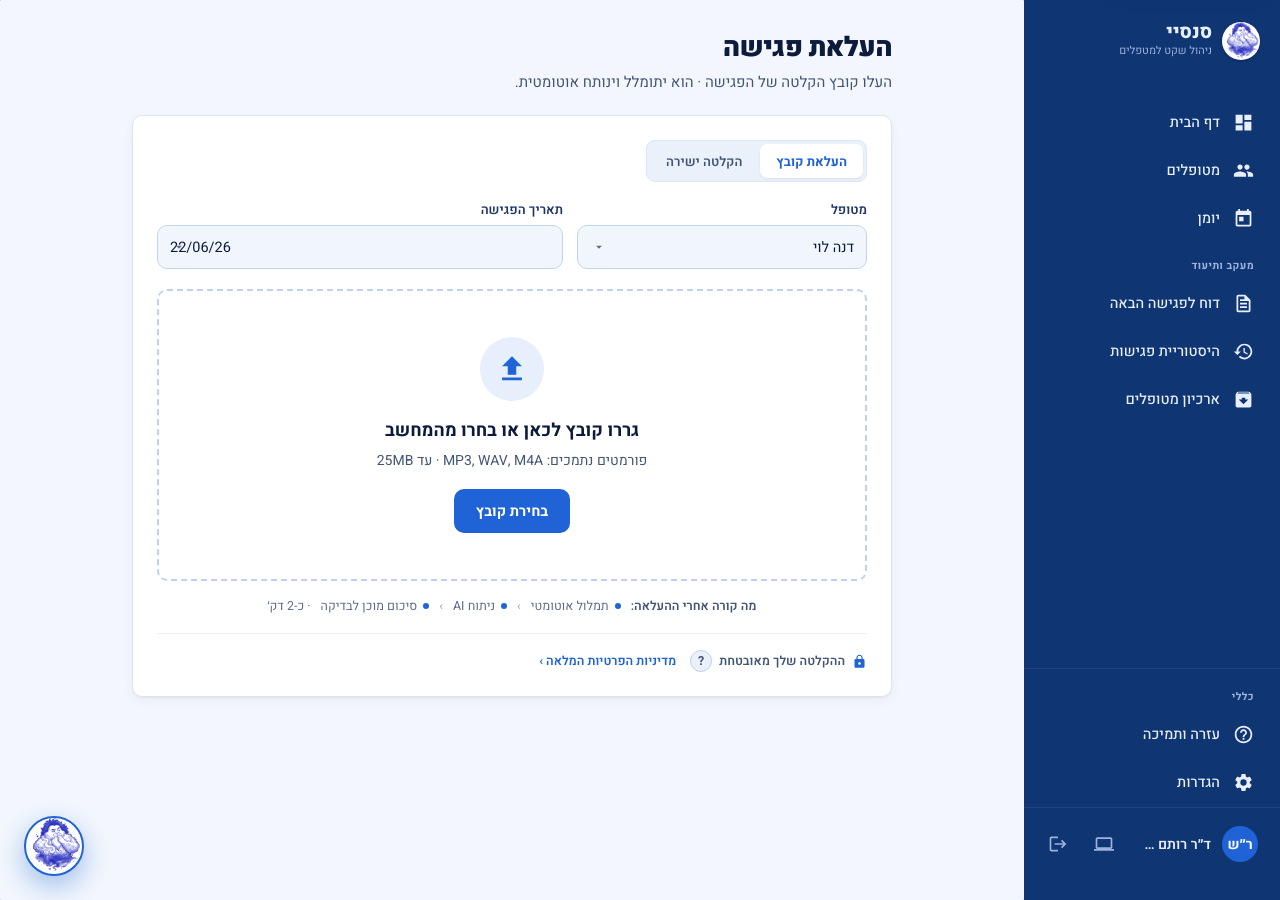
Scenario: audio upload — validation & state transitions › switches cleanly between file upload and direct recording modes
Expected: the element named "אופן ההעלאה" is shown, [646,140,867,182]
Expected: the tab "העלאת קובץ" is shown, [760,144,863,178]
Step 1. Click the tab "הקלטה ישירה" → [704, 161], box [650,144,758,178]
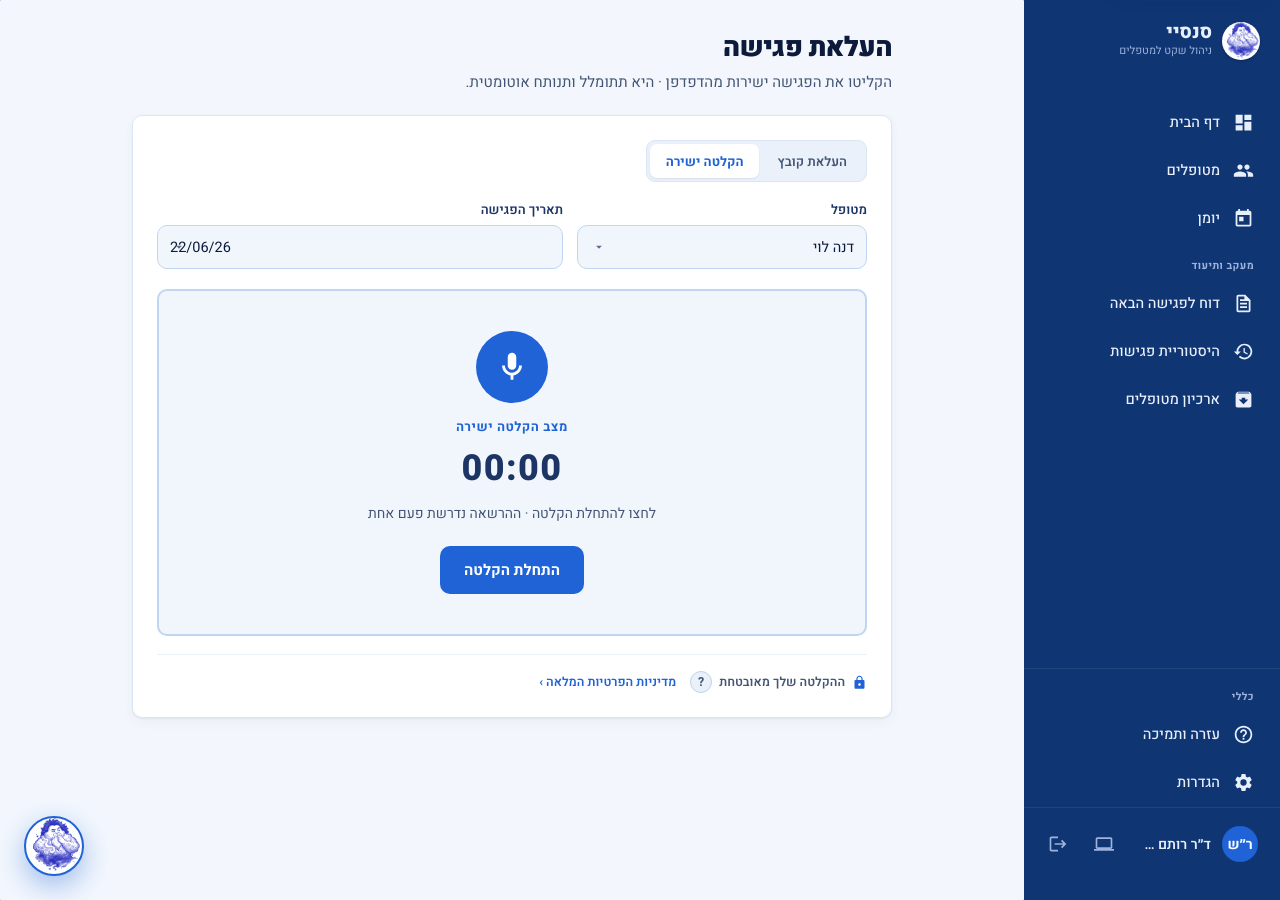
Expected: the button with aria-label "התחלת הקלטה" is shown, [440,546,584,594]
Expected: the text "מצב הקלטה ישירה" is shown, [456,417,568,436]
Step 2. Click the tab "העלאת קובץ" → [812, 161], box [762,144,863,178]
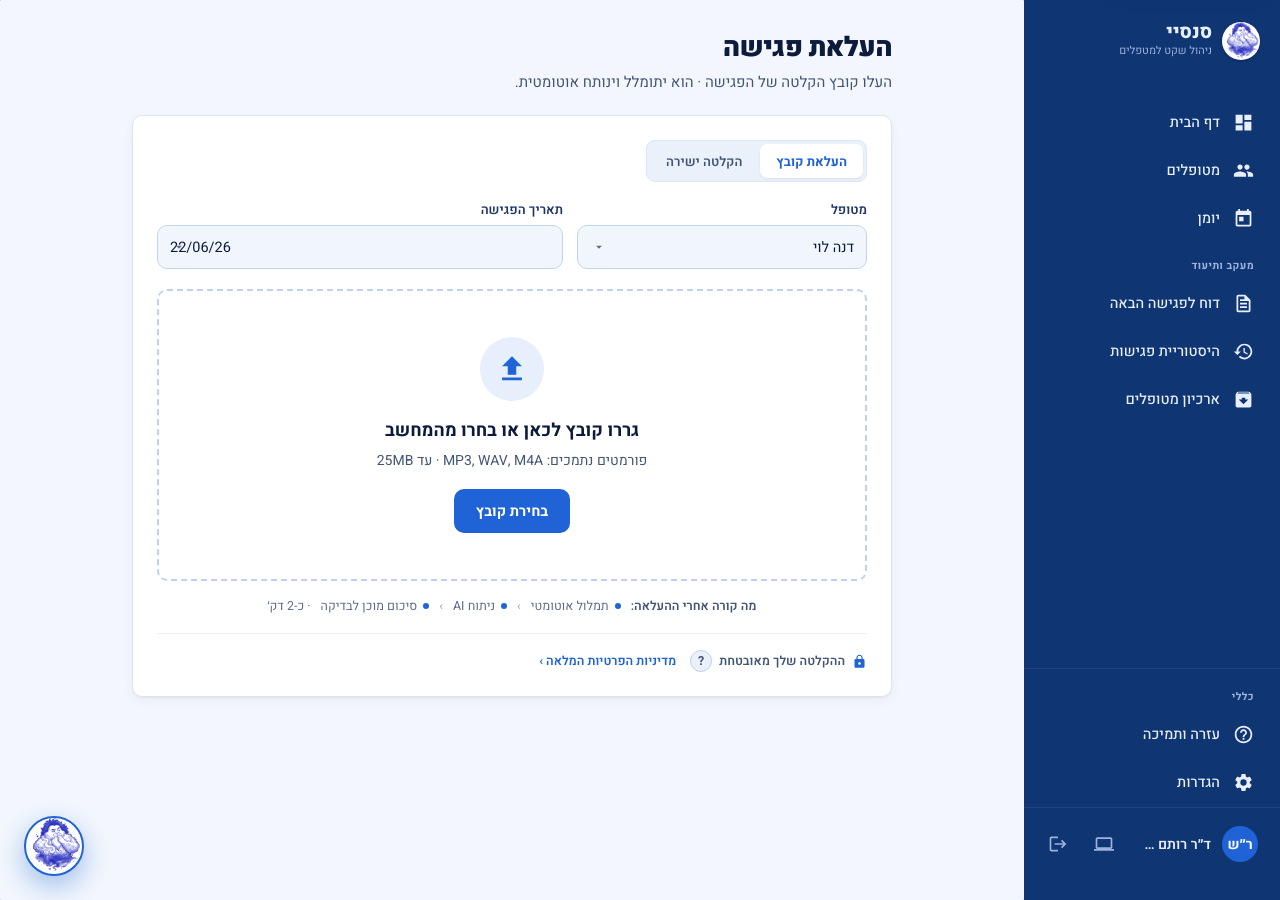
Expected: the element that starts with "גררו קובץ לכאן או בחרו מהמחשב" is shown, [157,289,867,581]
